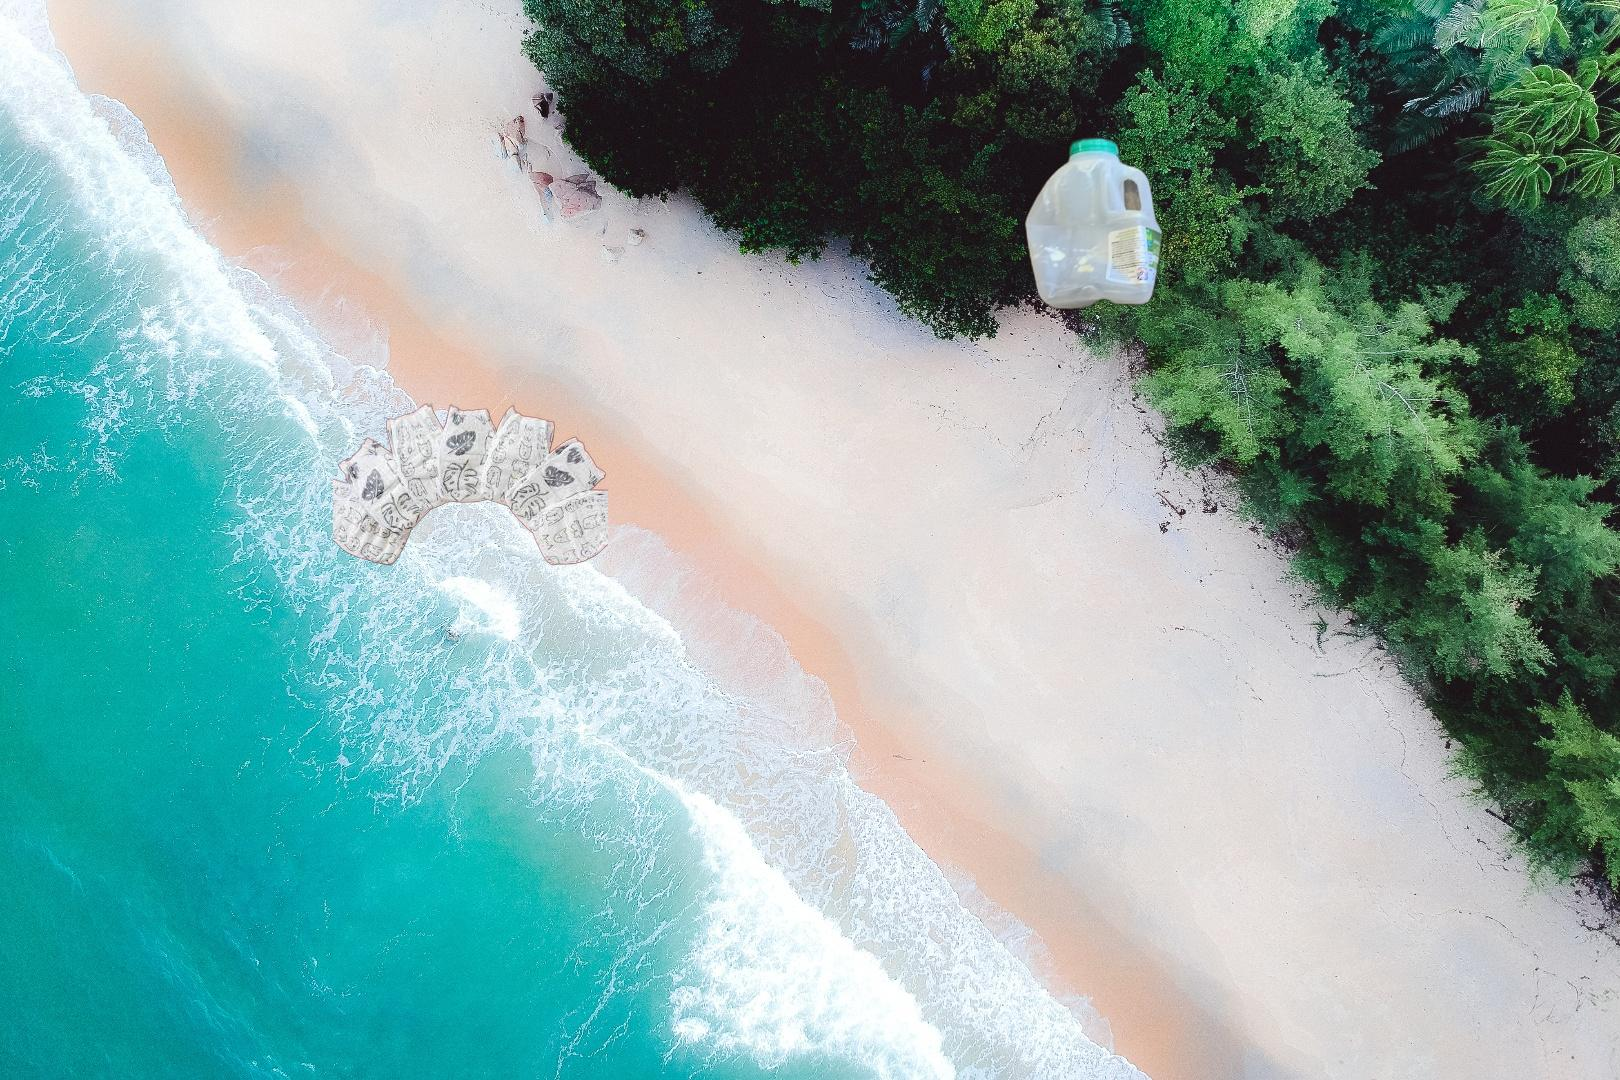plastic-bottles: (1021, 131, 1167, 316)
trash: (333, 401, 607, 569)
